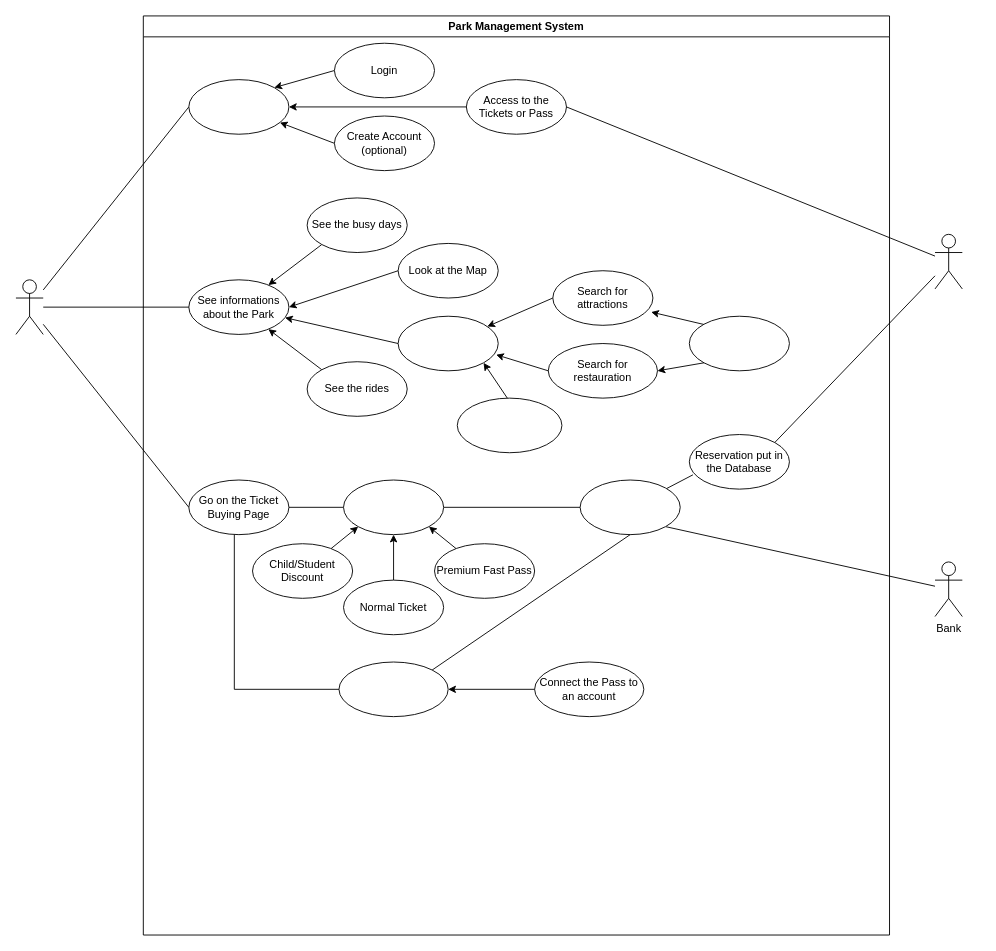
This 996x951 diagram has some shape labels left out. The centre of each missing label's shape, as x and y in pixels:
Account Management: (x=238, y=106)
Buy Year Pass: (x=393, y=689)
Choose Date and Type of Ticket: (x=393, y=507)
Client: (x=29, y=306)
Park System: (x=948, y=261)
Payment: (x=629, y=507)
Search for any show: (x=509, y=425)
Search for what to do: (x=447, y=343)
View Queue Times: (x=738, y=343)
